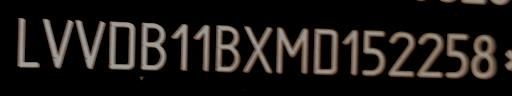letter: (273, 23, 311, 75), (40, 16, 74, 70), (104, 19, 138, 71), (241, 23, 275, 75), (74, 18, 106, 71), (310, 24, 342, 76), (386, 28, 418, 78), (138, 20, 168, 72), (416, 30, 446, 81), (14, 15, 42, 69), (212, 23, 242, 73), (470, 33, 500, 81), (444, 31, 472, 81), (360, 27, 388, 76), (338, 27, 362, 77), (170, 22, 190, 72), (192, 22, 212, 72)
